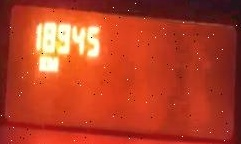1: (34, 19, 40, 54)
4: (70, 23, 84, 55)
5: (87, 24, 100, 58)
8: (41, 20, 54, 54)
9: (57, 22, 70, 54)
X: (46, 54, 58, 73), (38, 54, 46, 73)
